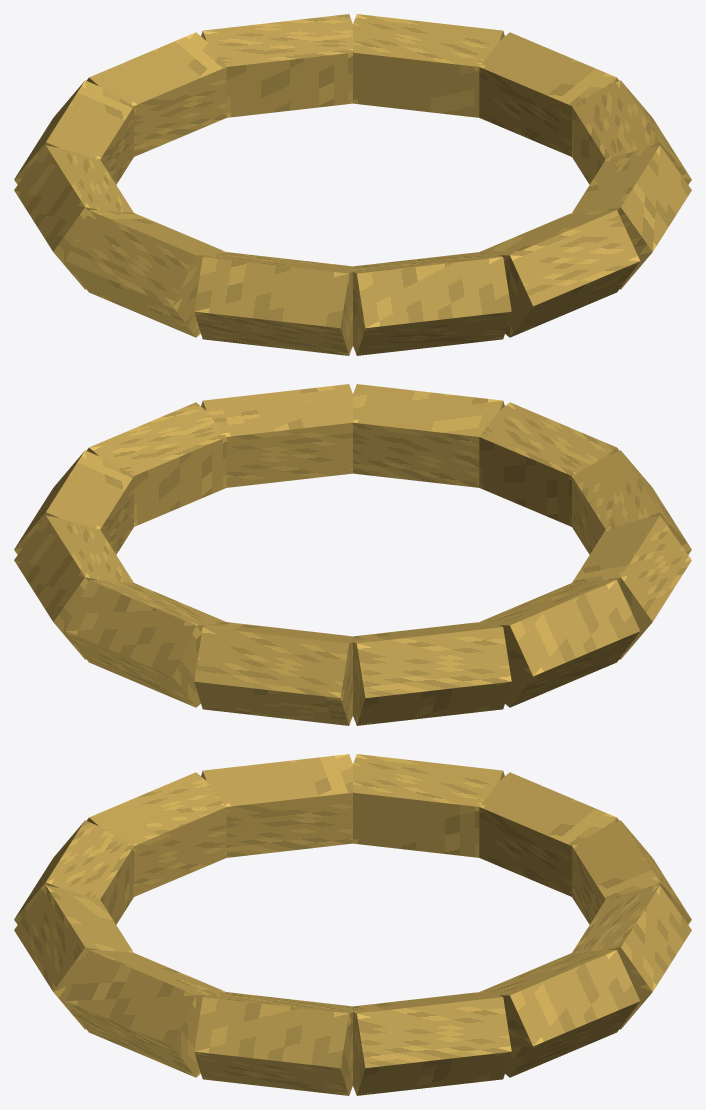
The model's file is gold_toe_ring.glb.
3 views of the same model, one above another, from view 1: azimuth 30°, elevation 25°; view 2: azimuth 150°, elevation 25°; view 3: azimuth 270°, elevation 25° (orthographic).
Parts seen in each view (by area): view 1: block_band3, block_band4, block_band9, block_band10, block_band2, block_band5, block_band8, block_band11, block_band1, block_band6, block_band0, block_band7; view 2: block_band7, block_band8, block_band1, block_band2, block_band6, block_band9, block_band0, block_band3, block_band5, block_band10, block_band4, block_band11; view 3: block_band0, block_band11, block_band5, block_band6, block_band1, block_band10, block_band4, block_band7, block_band2, block_band9, block_band3, block_band8.
Part boxes in pixels (bbox=[...]): block_band3: bbox=[353, 252, 511, 355]; block_band4: bbox=[194, 252, 352, 355]; block_band9: bbox=[201, 14, 352, 117]; block_band10: bbox=[353, 14, 504, 117]; block_band2: bbox=[480, 210, 639, 337]; block_band5: bbox=[66, 210, 225, 337]; block_band8: bbox=[86, 32, 226, 156]; block_band11: bbox=[479, 32, 619, 156]; block_band1: bbox=[572, 145, 691, 289]; block_band6: bbox=[14, 145, 133, 289]; block_band0: bbox=[572, 80, 691, 184]; block_band7: bbox=[14, 80, 133, 184]; block_band7: bbox=[353, 622, 511, 725]; block_band8: bbox=[194, 622, 352, 725]; block_band1: bbox=[201, 384, 352, 487]; block_band2: bbox=[353, 384, 504, 487]; block_band6: bbox=[480, 580, 639, 707]; block_band9: bbox=[66, 580, 225, 707]; block_band0: bbox=[86, 402, 226, 526]; block_band3: bbox=[479, 402, 619, 526]; block_band5: bbox=[572, 515, 691, 659]; block_band10: bbox=[14, 515, 133, 659]; block_band4: bbox=[572, 450, 691, 554]; block_band11: bbox=[14, 450, 133, 554]; block_band0: bbox=[194, 992, 352, 1095]; block_band11: bbox=[353, 992, 511, 1095]; block_band5: bbox=[201, 754, 352, 857]; block_band6: bbox=[353, 754, 504, 857]; block_band1: bbox=[66, 950, 225, 1077]; block_band10: bbox=[480, 950, 639, 1077]; block_band4: bbox=[86, 772, 226, 896]; block_band7: bbox=[479, 772, 619, 896]; block_band2: bbox=[14, 885, 133, 1029]; block_band9: bbox=[572, 885, 691, 1029]; block_band3: bbox=[14, 820, 133, 924]; block_band8: bbox=[572, 820, 691, 924].
Size of the model in its own units: 0.0257 by 0.00344 by 0.0257.
1 material, 1 textured.
